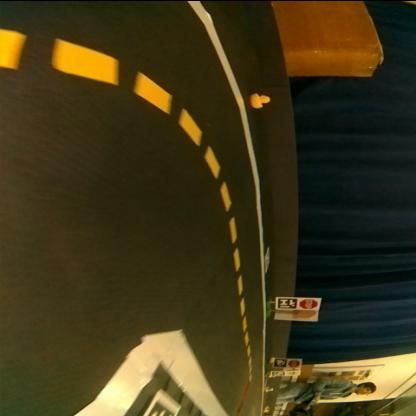Duckie: (252, 92, 271, 107), (267, 386, 273, 390)
Intersection sign: (288, 368, 300, 374)
QR code: (146, 390, 182, 414), (278, 296, 297, 308), (264, 248, 272, 270), (275, 358, 285, 366), (273, 370, 283, 376)
Stop sign: (301, 298, 320, 308), (290, 358, 300, 366)
